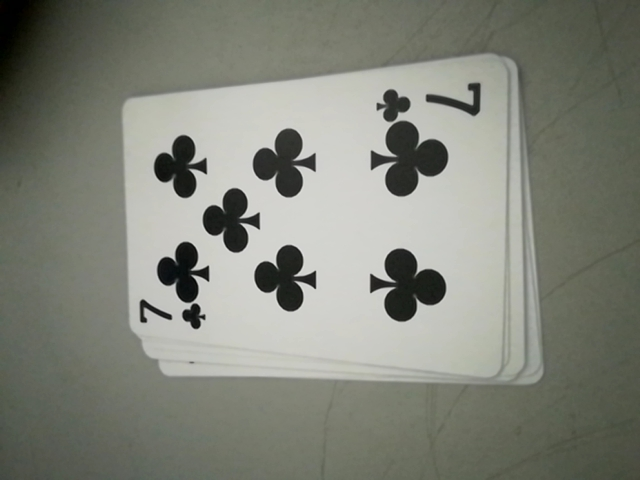mh 7: (373, 75, 487, 125), (133, 298, 204, 338)
